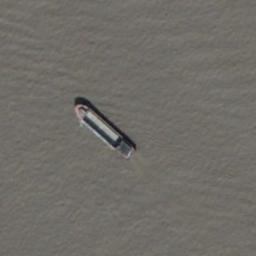boat: (73, 100, 136, 160)
